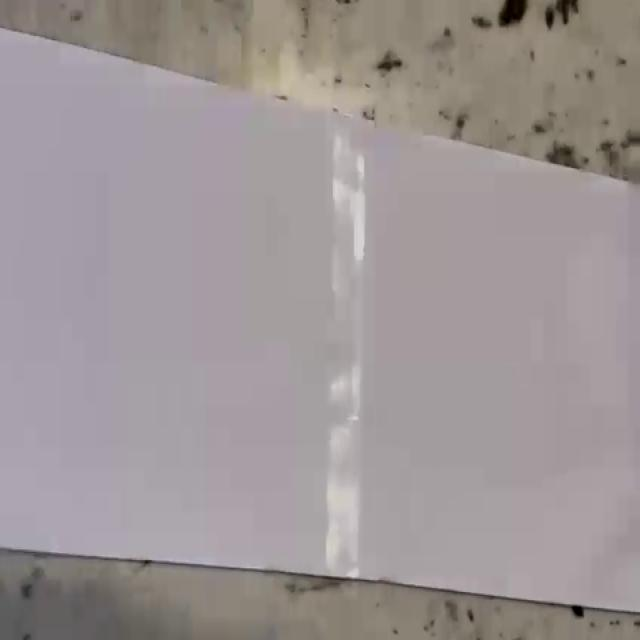road: (0, 28, 640, 611)
